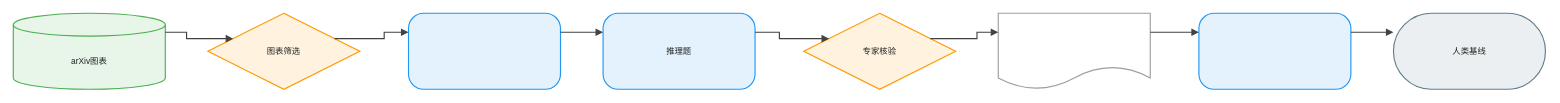
The diagram is 1560 pixels wide and 103 high, and some of its shapes have lost their labels. The shapes that lost their labels are listed below. From the top down, each one's centre as x and y in pixels, then its label:
At (484,51): "描述题".
At (1073,51): "CharXiv".
At (1274,51): "模型评测".
